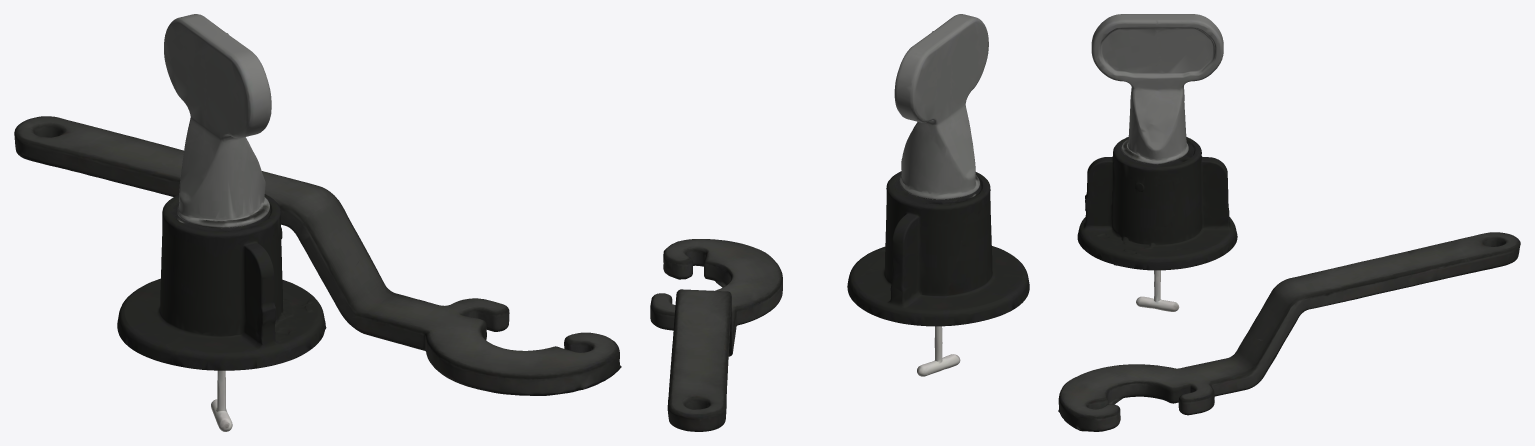
The model's file is reusable-tile-leveling-system.glb.
3 views of the same model, side by side, from view 1: azimuth 30°, elevation 25°; view 2: azimuth 150°, elevation 25°; view 3: azimuth 270°, elevation 25° (orthographic). The views are drawn at different scales.
Parts seen in each view (by area): view 1: tripo_node_e75359f4-2304-43ca-ba47-aee84ddc9a5b; view 2: tripo_node_e75359f4-2304-43ca-ba47-aee84ddc9a5b; view 3: tripo_node_e75359f4-2304-43ca-ba47-aee84ddc9a5b.
Boxes of the visible parts, left/top/right/bottom form: tripo_node_e75359f4-2304-43ca-ba47-aee84ddc9a5b: left=14, top=14, right=621, bottom=431; tripo_node_e75359f4-2304-43ca-ba47-aee84ddc9a5b: left=650, top=14, right=1029, bottom=431; tripo_node_e75359f4-2304-43ca-ba47-aee84ddc9a5b: left=1058, top=14, right=1520, bottom=431.
Bounding box in the file's own units: 0.8298 × 0.6937 × 1.
Materials: 1 (1 with a texture image).
